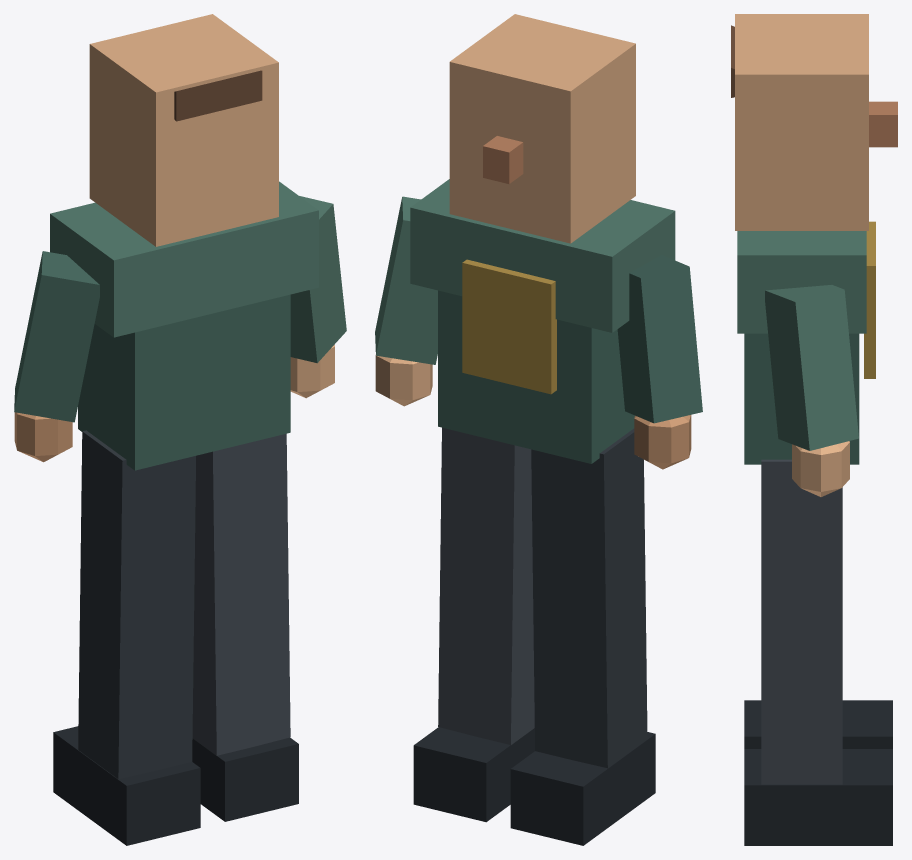
The model's file is lwf_generic_attendee_v1.glb.
3 views of the same model, side by side, from view 1: azimuth 30°, elevation 25°; view 2: azimuth 150°, elevation 25°; view 3: azimuth 270°, elevation 25° (orthographic). The views are drawn at different scales.
Parts seen in each view (by area): view 1: lwf_generic_attendee_v1; view 2: lwf_generic_attendee_v1; view 3: lwf_generic_attendee_v1.
Boxes of the visible parts, bbox=[...] form: lwf_generic_attendee_v1: bbox=[14, 14, 346, 845]; lwf_generic_attendee_v1: bbox=[375, 14, 702, 845]; lwf_generic_attendee_v1: bbox=[731, 14, 897, 845].
Bounding box in the file's own units: 0.8114 × 1.75 × 0.3485.
1 material, 1 textured.
